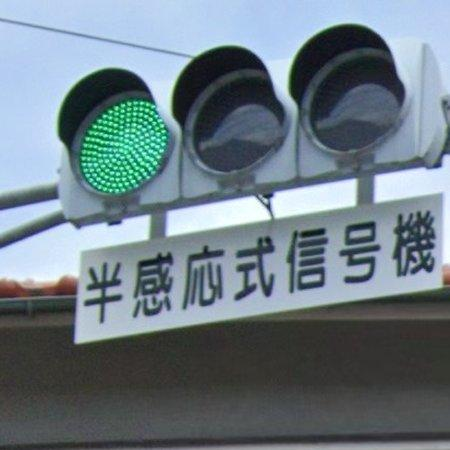traffic lights: (0, 26, 450, 248)
